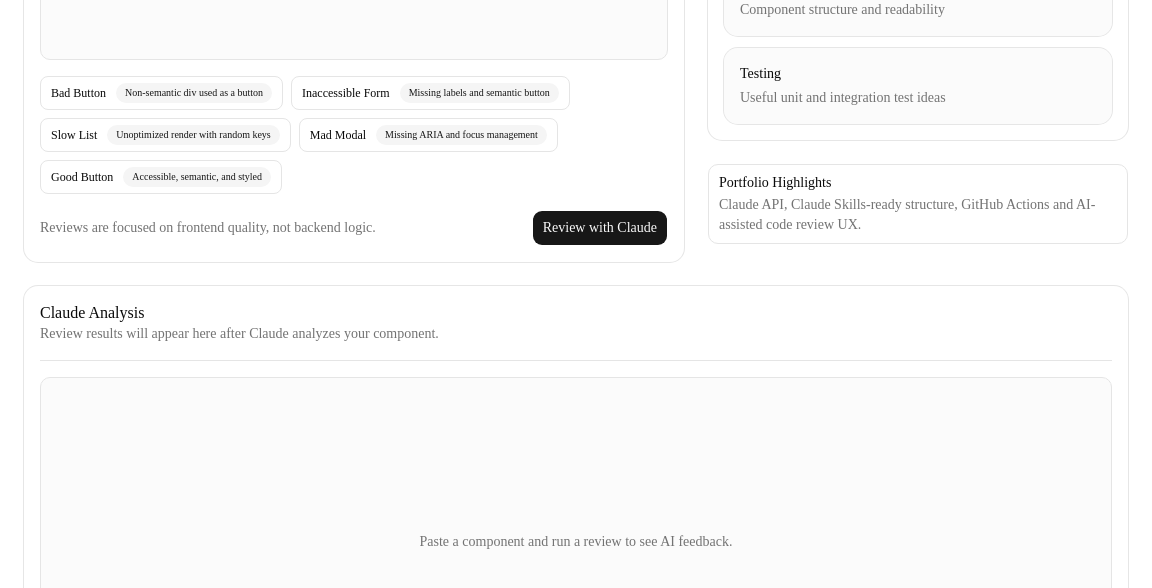
Test: Home page › shows loading state when reviewing
(page scrolled)
What coordinates should you click on to do the following:
click the button "Review with Claude"
I would click on:
 (600, 228)
Its box is x1=532 y1=210 x2=668 y2=246.
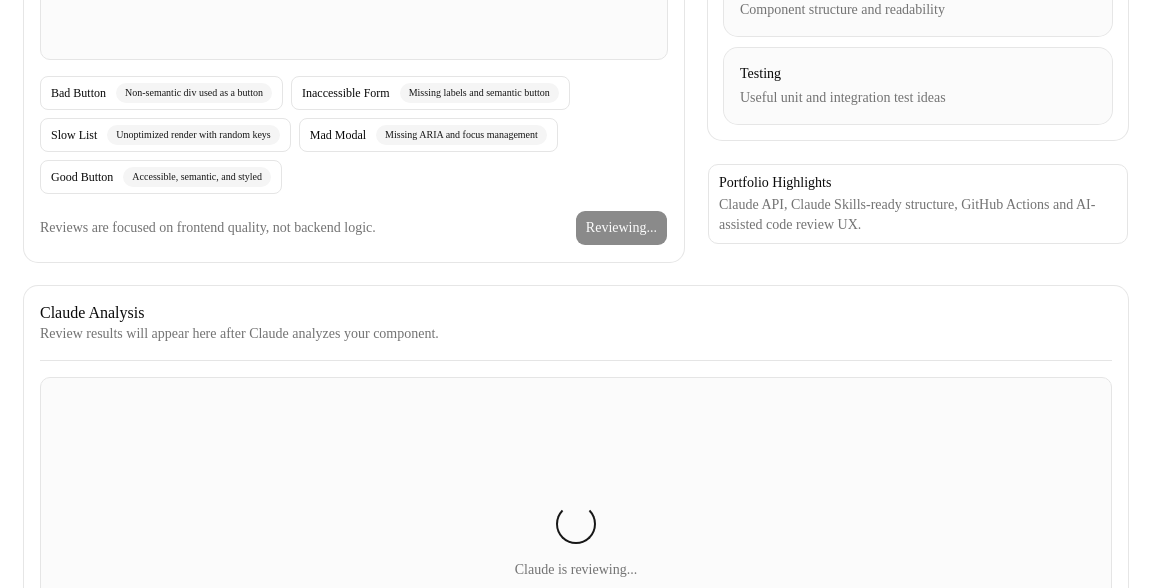
Now the button "Reviewing..." is shown, box x1=575 y1=210 x2=668 y2=246
